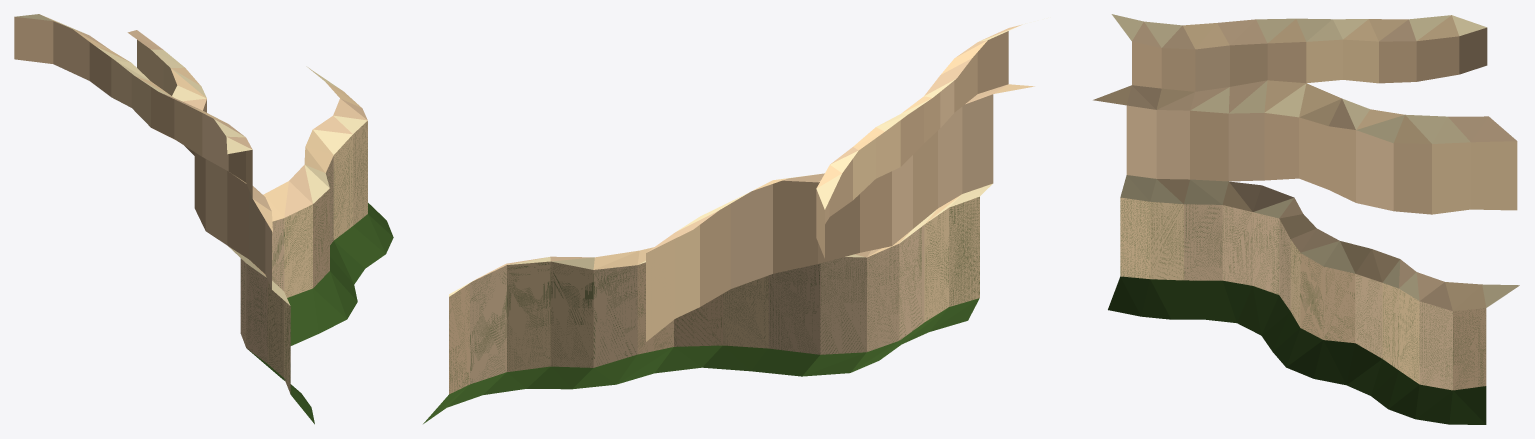
3 renders of one model, left to right at view 1: azimuth 30°, elevation 25°; view 2: azimuth 150°, elevation 25°; view 3: azimuth 270°, elevation 25°, orthographic. The views are drawn at different scales.
Visible parts, largest first — view 1: O206FE; view 2: O206FE; view 3: O206FE.
Boxes of the visible parts, x1,y1,x2,y2 form: O206FE: (14,14,393,424); O206FE: (423,23,1034,423); O206FE: (1093,14,1519,424).
Bounding box in the file's own units: 122 × 96 × 144.
